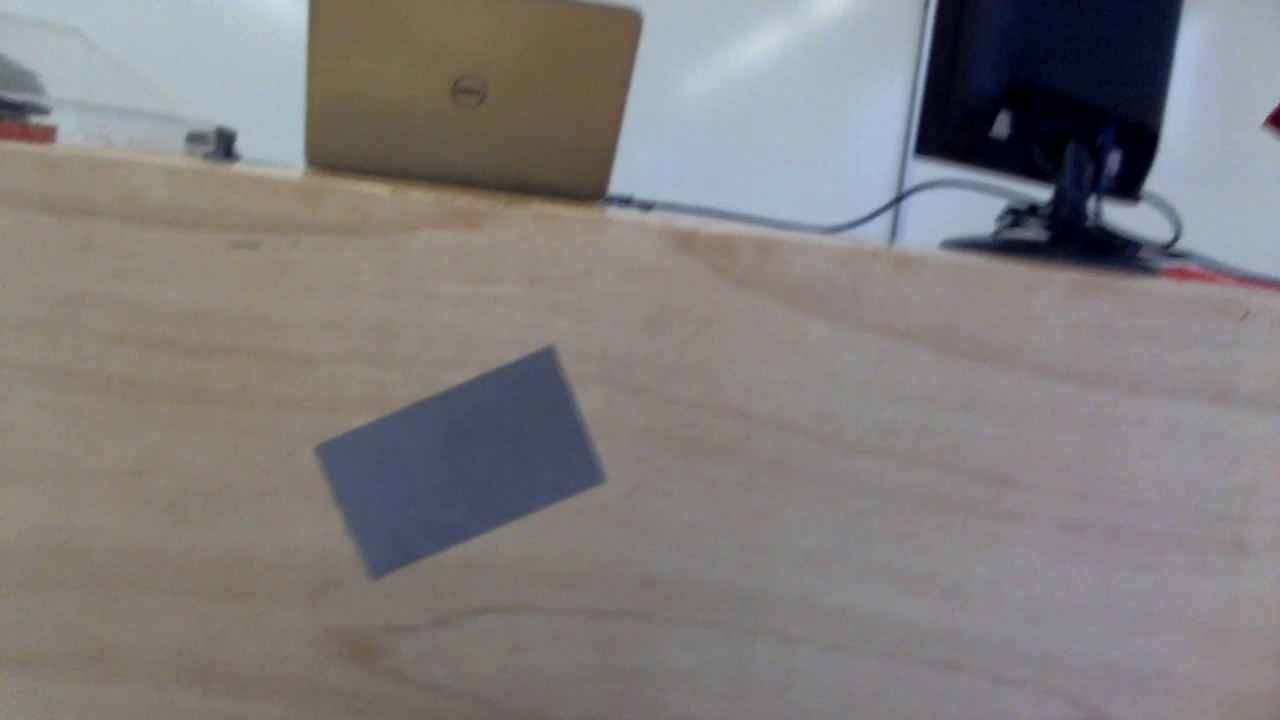Tape: (315, 343, 609, 580)
